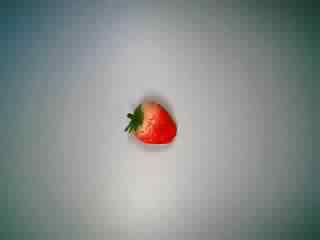strawberry: (115, 89, 183, 153)
